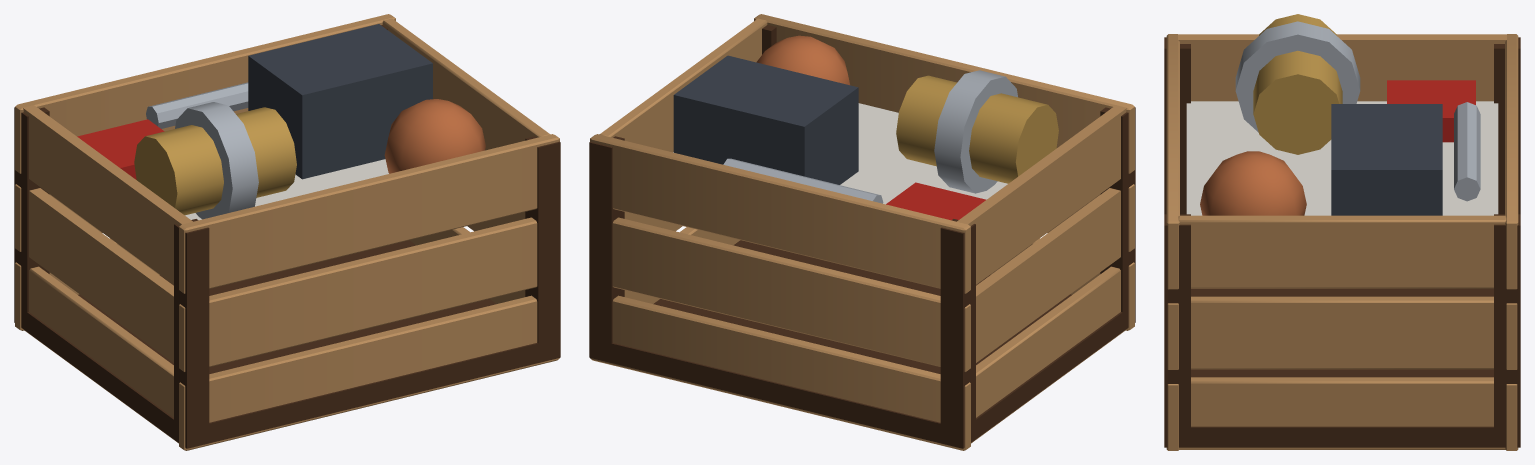
The model's file is crate_open_parts.glb.
3 renders of one model, left to right at view 1: azimuth 30°, elevation 25°; view 2: azimuth 150°, elevation 25°; view 3: azimuth 270°, elevation 25°, orthographic. The views are drawn at different scales.
Visible parts, largest first — view 1: crate_open_parts; view 2: crate_open_parts; view 3: crate_open_parts.
Part boxes in pixels (left/top/right/bottom): crate_open_parts: left=14, top=14, right=560, bottom=450; crate_open_parts: left=589, top=14, right=1135, bottom=450; crate_open_parts: left=1164, top=14, right=1520, bottom=450.
Size of the model in its own units: 1.01 by 0.7 by 0.8.
